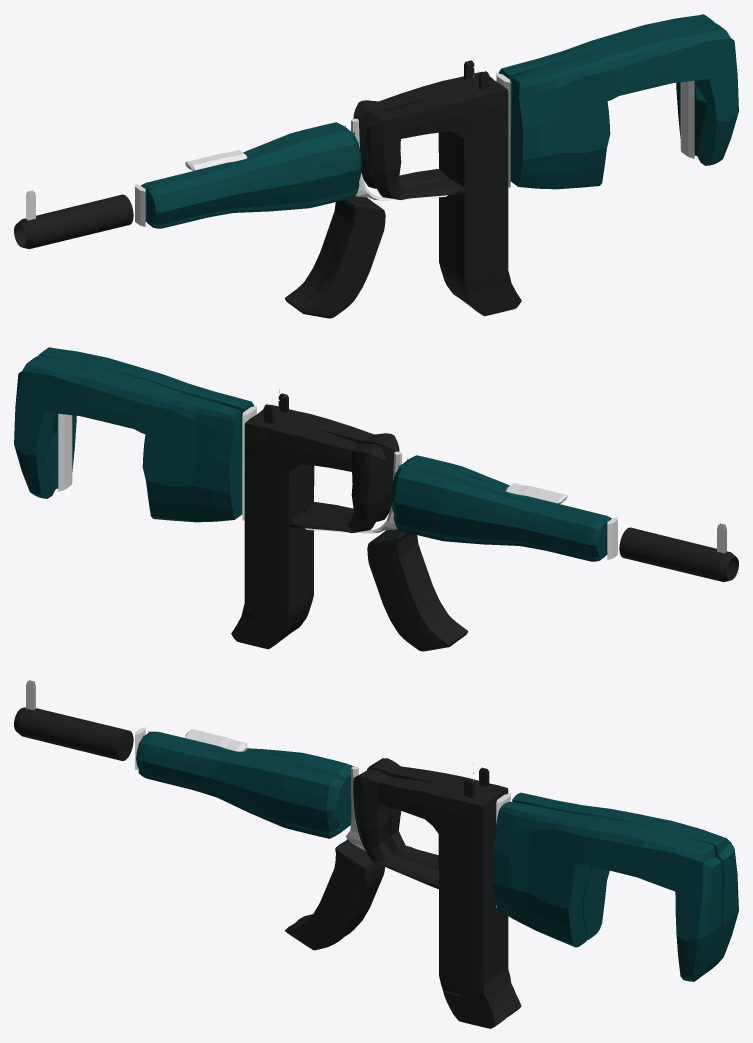
File: gun_models.fbx
3 renders of one model, top to bottom at view 1: azimuth 30°, elevation 25°; view 2: azimuth 150°, elevation 25°; view 3: azimuth 330°, elevation 25°, orthographic.
Parts seen in each view (by area): view 1: GunMesh; view 2: GunMesh; view 3: GunMesh.
Boxes of the visible parts, x1,y1,x2,y2 form: GunMesh: (14,14,738,318); GunMesh: (14,347,738,651); GunMesh: (14,680,738,1028).
Bounding box in the file's own units: 3088 × 1057 × 312.
